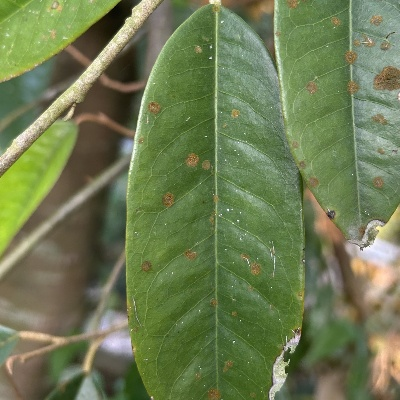Leaf_Algal: (273, 0, 400, 252)
